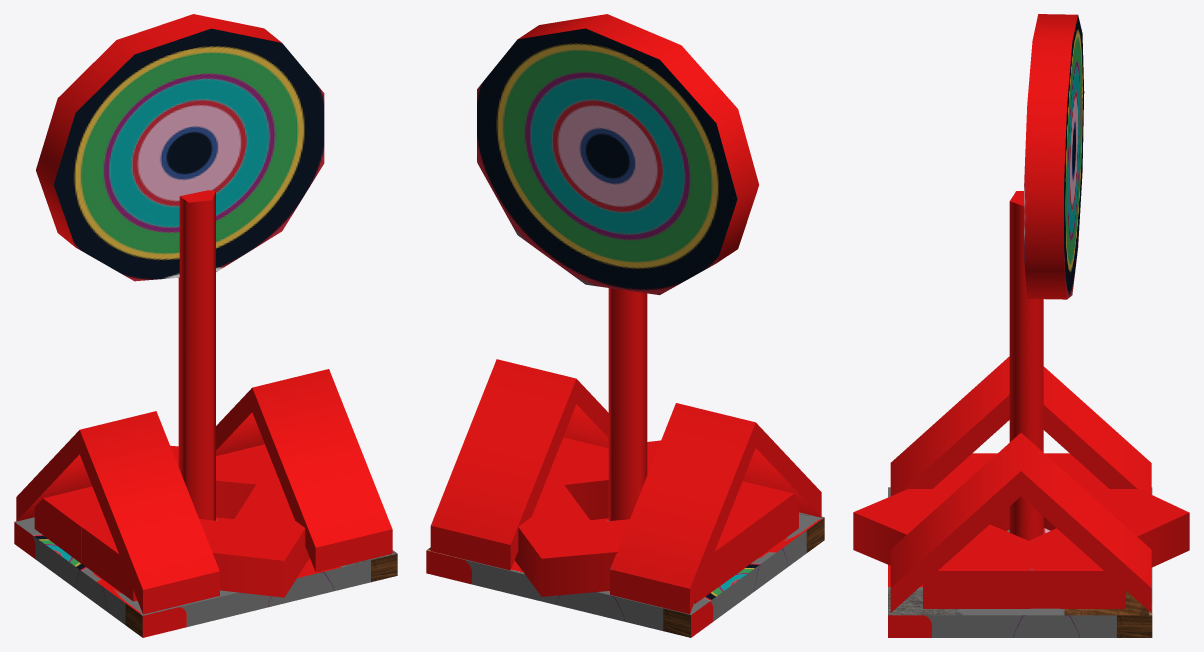
The model's file is Diana.FBX.
3 renders of one model, left to right at view 1: azimuth 30°, elevation 25°; view 2: azimuth 150°, elevation 25°; view 3: azimuth 270°, elevation 25°, orthographic. The views are drawn at different scales.
Parts seen in each view (by area): view 1: Cylinder001, Box002; view 2: Box002, Cylinder001; view 3: Box002, Cylinder001.
Part boxes in pixels (x1,y1,x2,y2): Cylinder001: (36, 14, 324, 520); Box002: (14, 369, 397, 637); Box002: (426, 359, 824, 637); Cylinder001: (477, 14, 758, 520); Box002: (853, 356, 1189, 637); Cylinder001: (1009, 14, 1084, 540).
Size of the model in its own units: 30.07 by 56.18 by 31.77.
